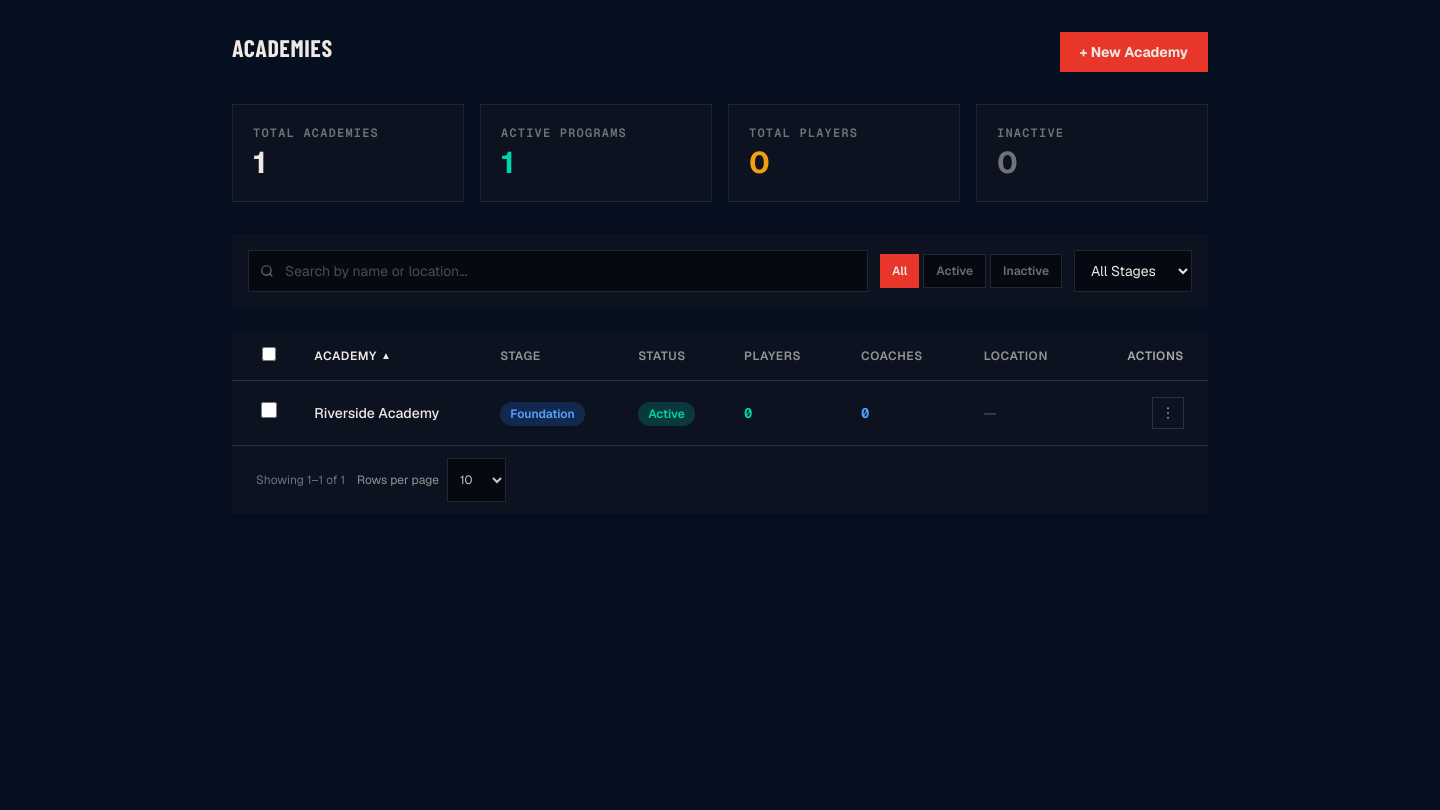
AcademyClient › a failed deactivate shows the real error inside the still-open confirm dialog, not silently
Check: the text "Riverside Academy" is shown, box [314,404,439,422]
Step 1. Click the button named "More actions" → (1168, 413), box [1152,397,1184,429]
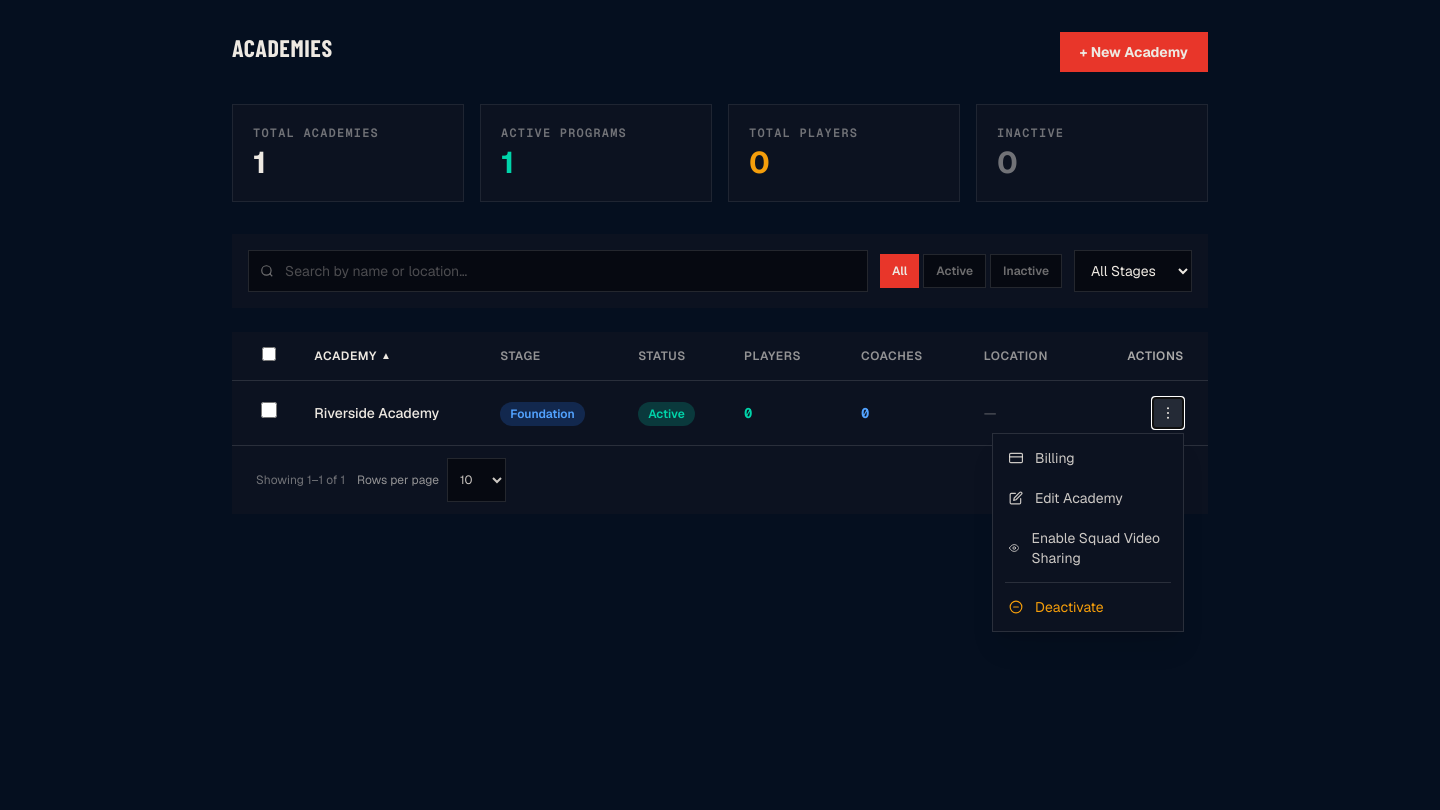
Step 2. Click the button "Deactivate" → (1088, 607), box [993,587,1183,627]
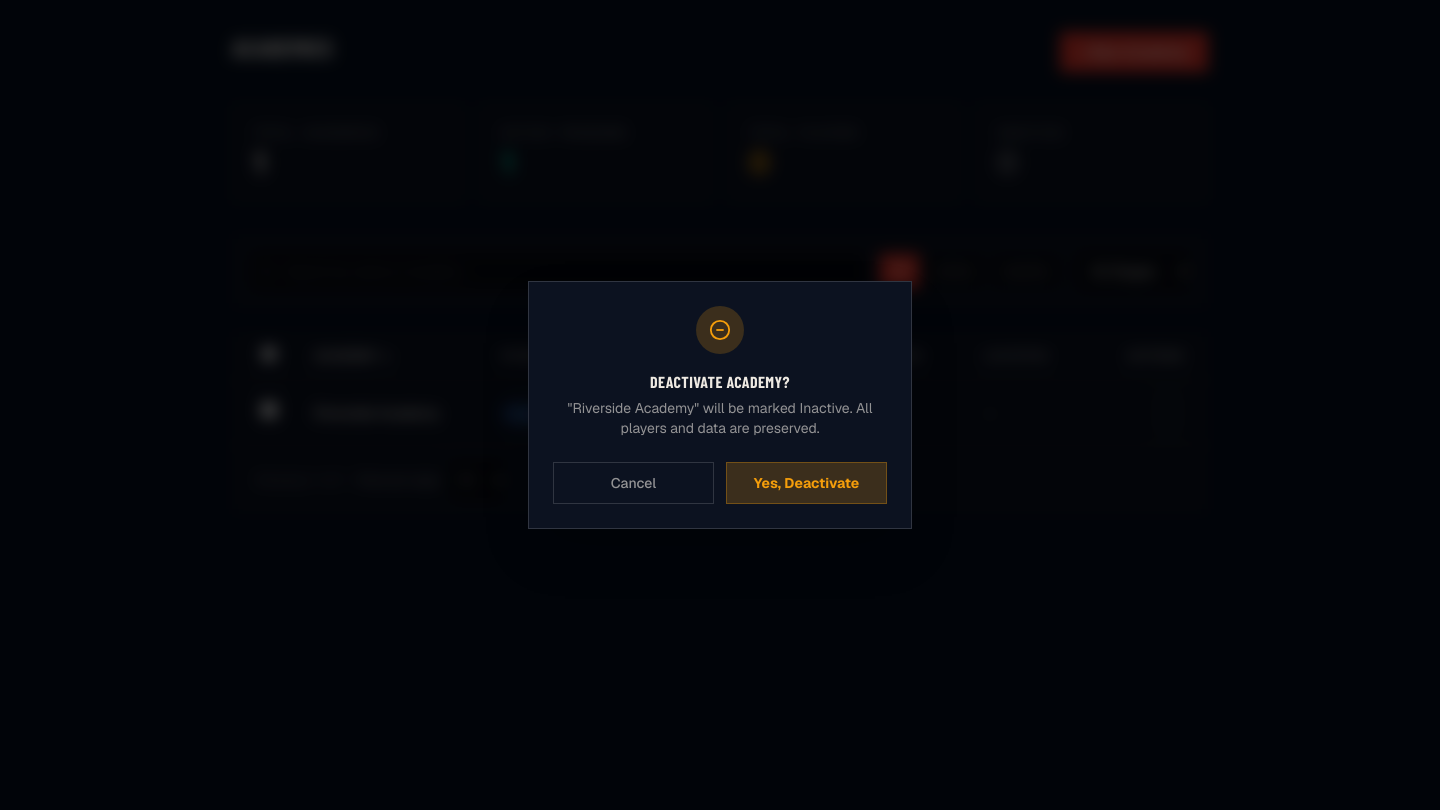
Step 3. Click the button "Yes, Deactivate" → (806, 483), box [726,462,887,504]
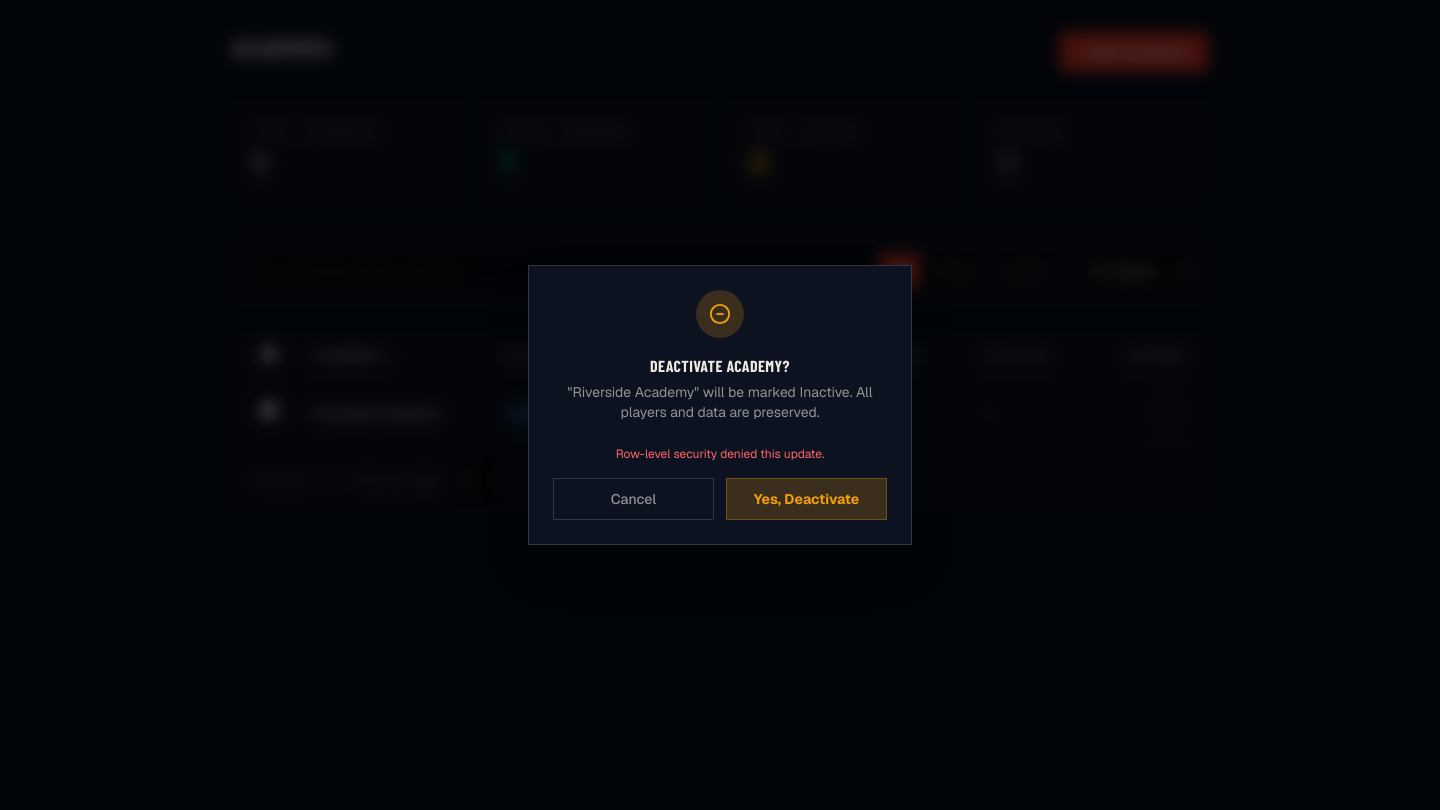
Check: the heading "Deactivate Academy?" is shown, box [650,356,790,375]
Check: the text "Row-level security denied this update." is shown, box [616,446,824,462]
